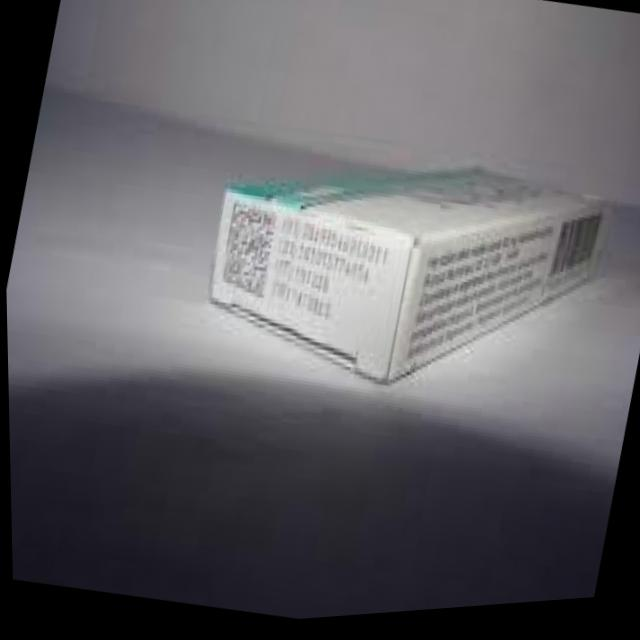datamatrix: (210, 194, 286, 309)
